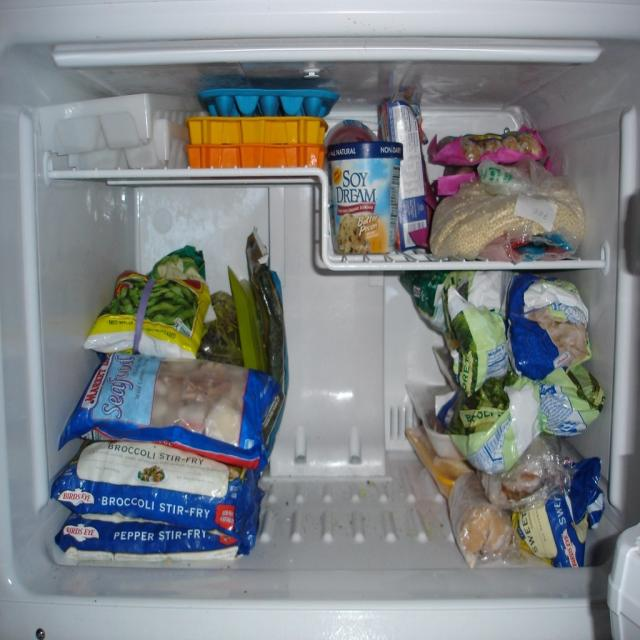Plastics: (33, 76, 342, 173), (333, 135, 407, 263)
